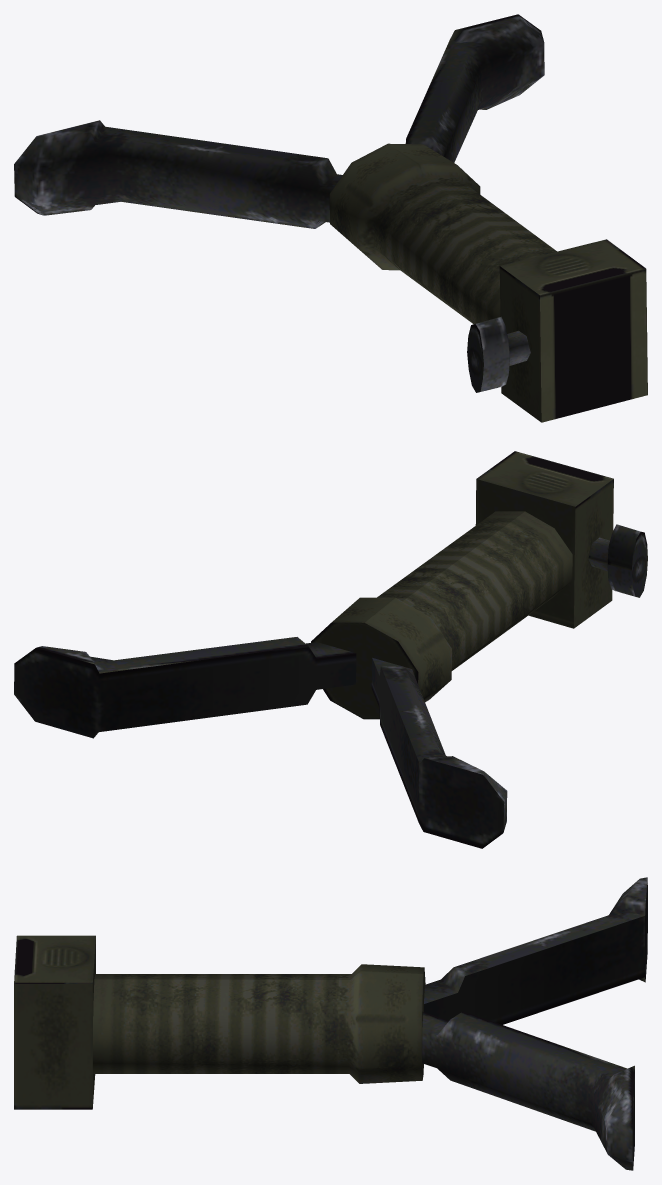
File: phukien.fbx
3 renders of one model, top to bottom at view 1: azimuth 30°, elevation 25°; view 2: azimuth 150°, elevation 25°; view 3: azimuth 270°, elevation 25°, orthographic. The views are drawn at different scales.
Visible parts, largest first — view 1: phukien; view 2: phukien; view 3: phukien.
Part boxes in pixels (bbox=[...]): phukien: bbox=[14, 14, 647, 422]; phukien: bbox=[14, 451, 647, 848]; phukien: bbox=[14, 877, 647, 1170].
Size of the model in its own units: 3.41 by 0.8157 by 3.66.
Materials: 1 (1 with a texture image).
